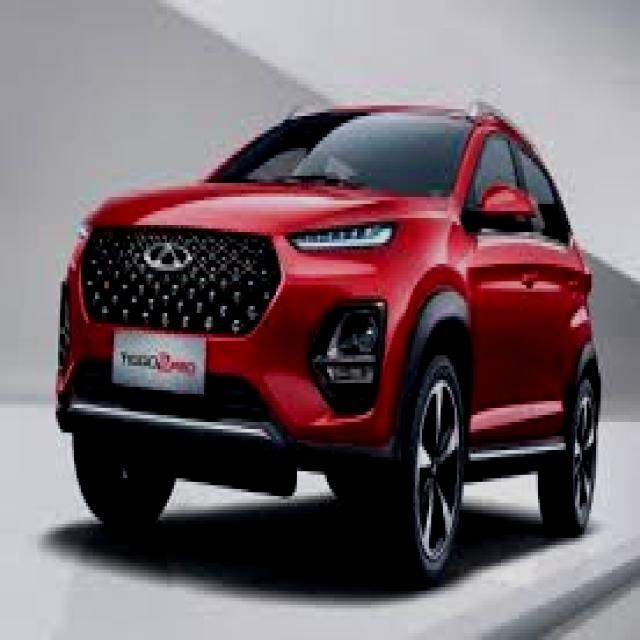SUV: (54, 94, 611, 588)
